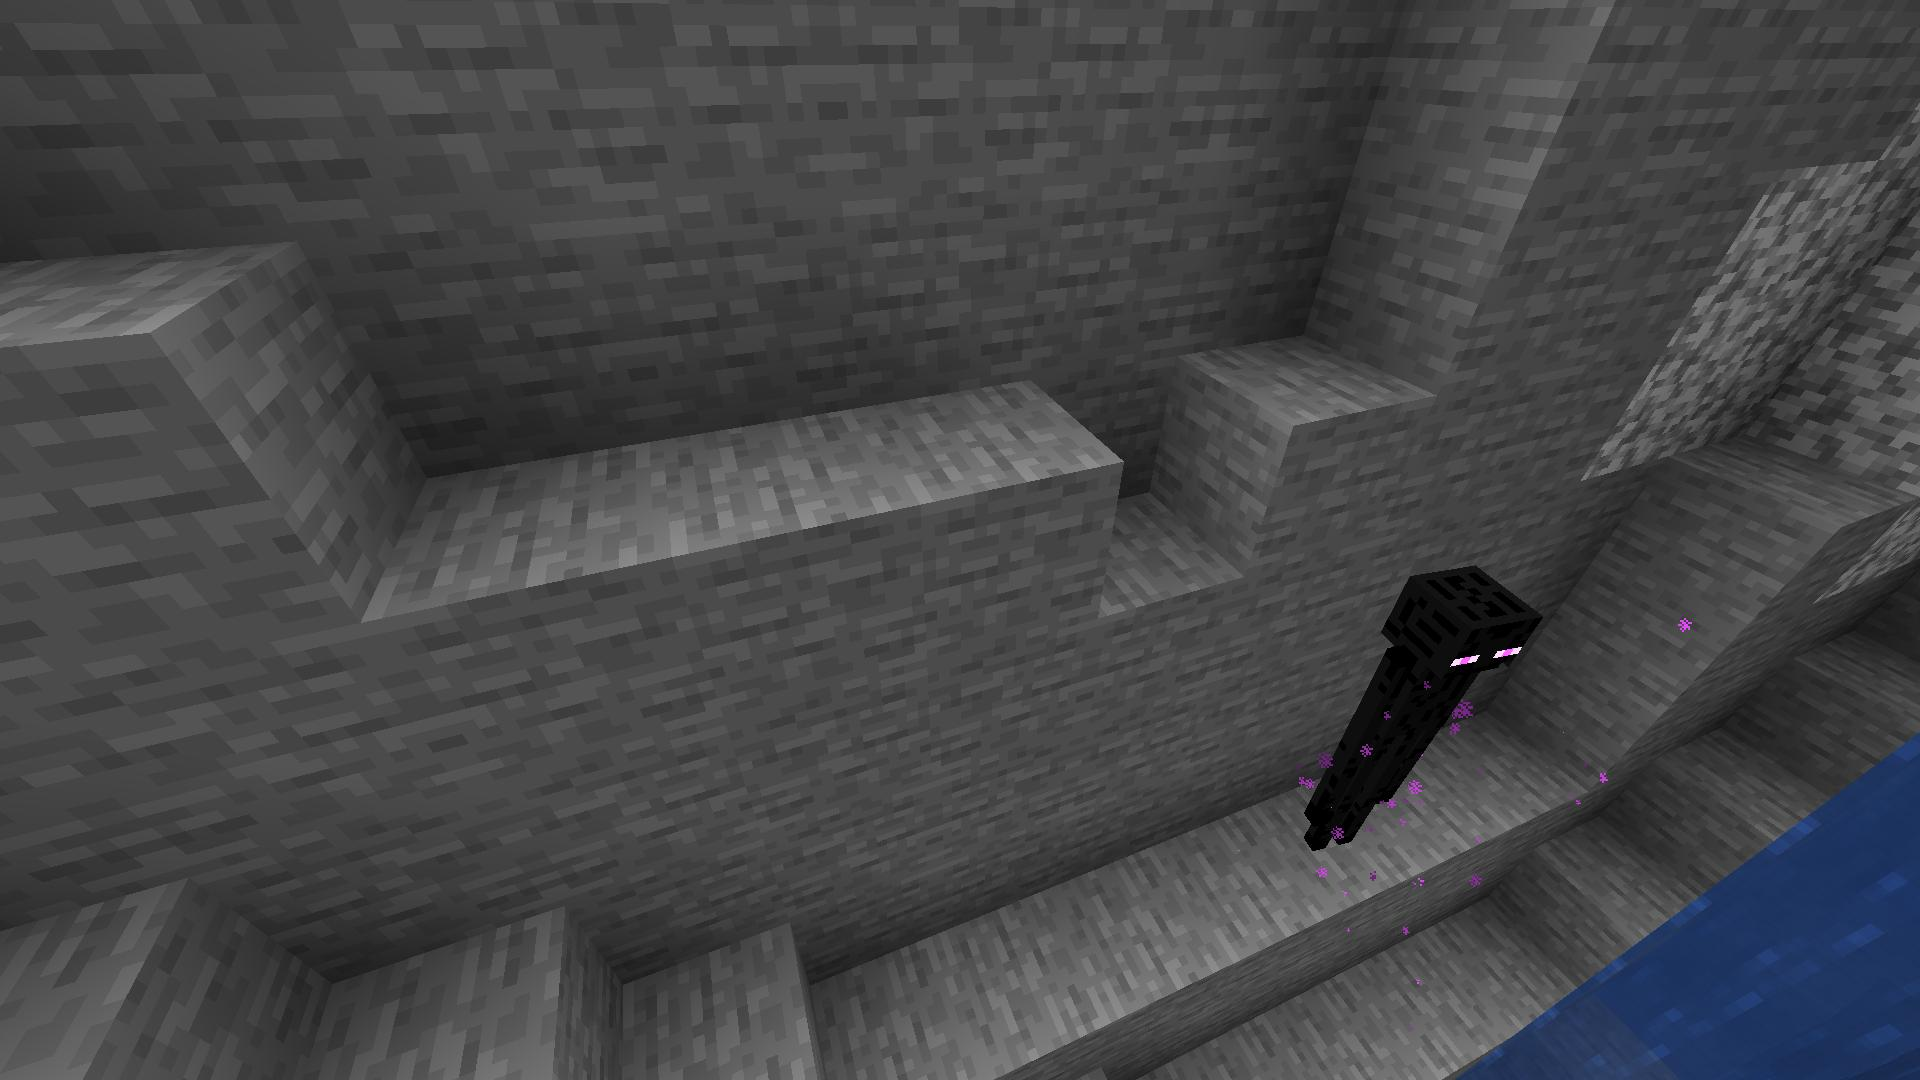enderman: (1308, 554, 1549, 852)
